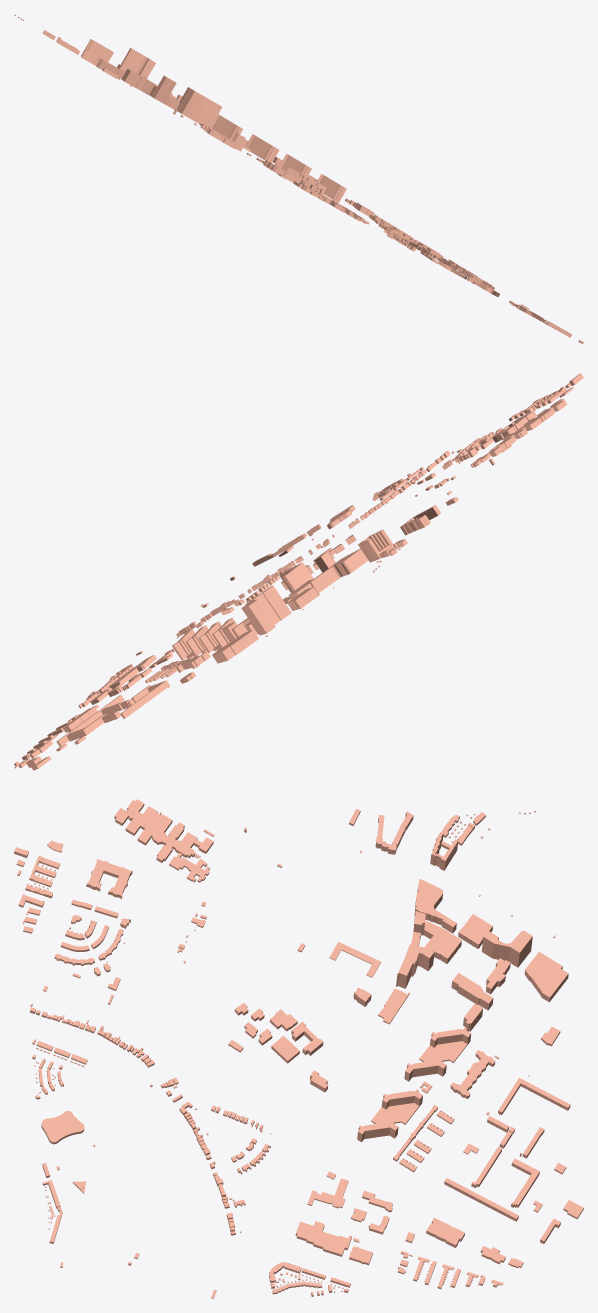
3 renders of one model, top to bottom at view 1: azimuth 30°, elevation 25°; view 2: azimuth 150°, elevation 25°; view 3: azimuth 270°, elevation 25°, orthographic. The views are drawn at different scales.
Size of the model in its own units: 1025 by 784 by 1282.
